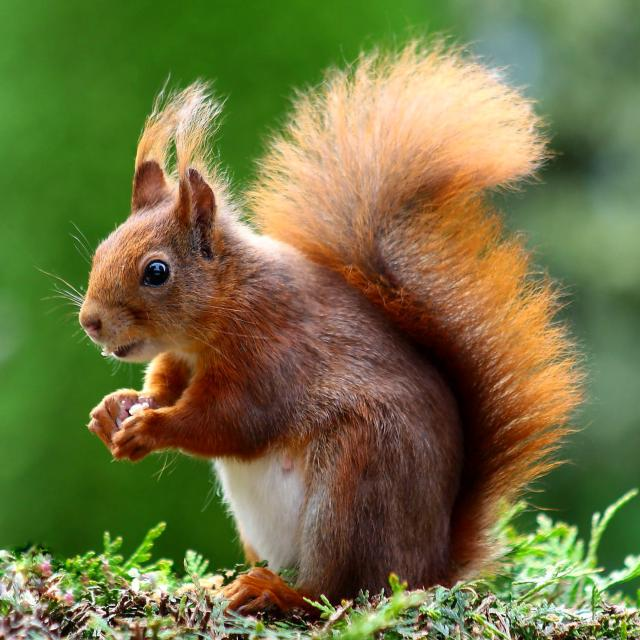squirrel: (36, 38, 584, 611)
